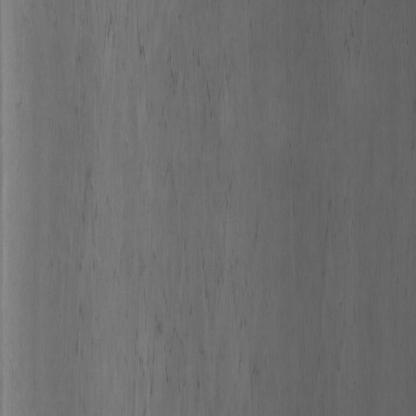silk_spot: (92, 0, 236, 384)
